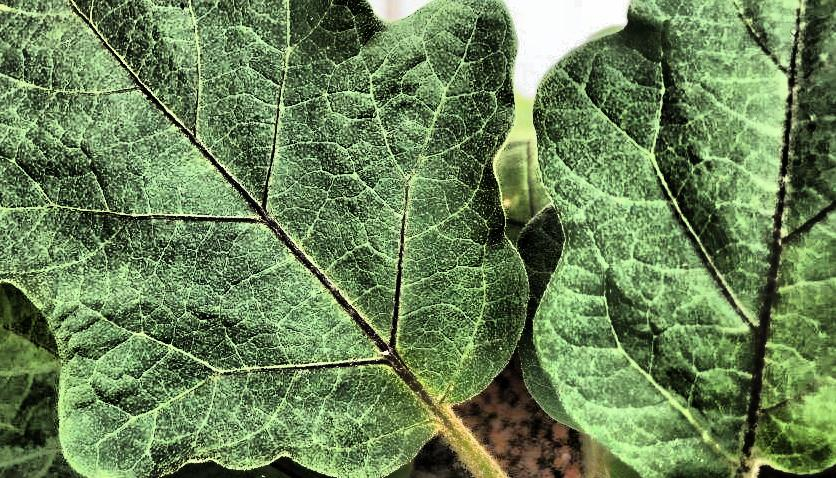HEALTHY: (0, 68, 535, 478)
